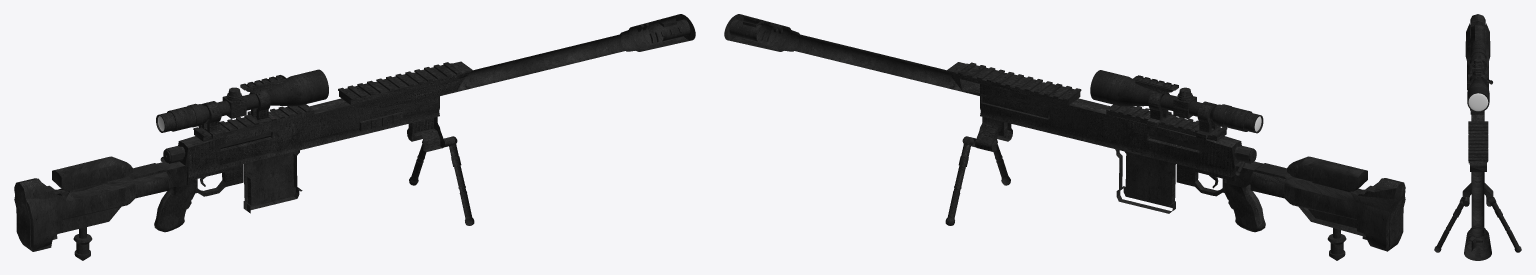
Rendered from sniper_rifle.glb.
The picture shows the model from 3 angles, left to right: view 1: azimuth 30°, elevation 25°; view 2: azimuth 150°, elevation 25°; view 3: azimuth 270°, elevation 25°; orthographic projection. The views are drawn at different scales.
Visible parts, largest first — view 1: DL Q33, Ammo, object 2; view 2: DL Q33, Ammo, object 2; view 3: DL Q33.
Part boxes in pixels (x1,y1,x2,y2): DL Q33: (14,14,695,260); Ammo: (243,150,302,213); object 2: (160,132,270,163); DL Q33: (724,14,1405,260); Ammo: (1115,149,1175,213); object 2: (1149,134,1256,175); DL Q33: (1434,14,1521,260).
Bounding box in the file's own units: 4.81 × 1.15 × 0.7583.
4 materials, 3 textured.
